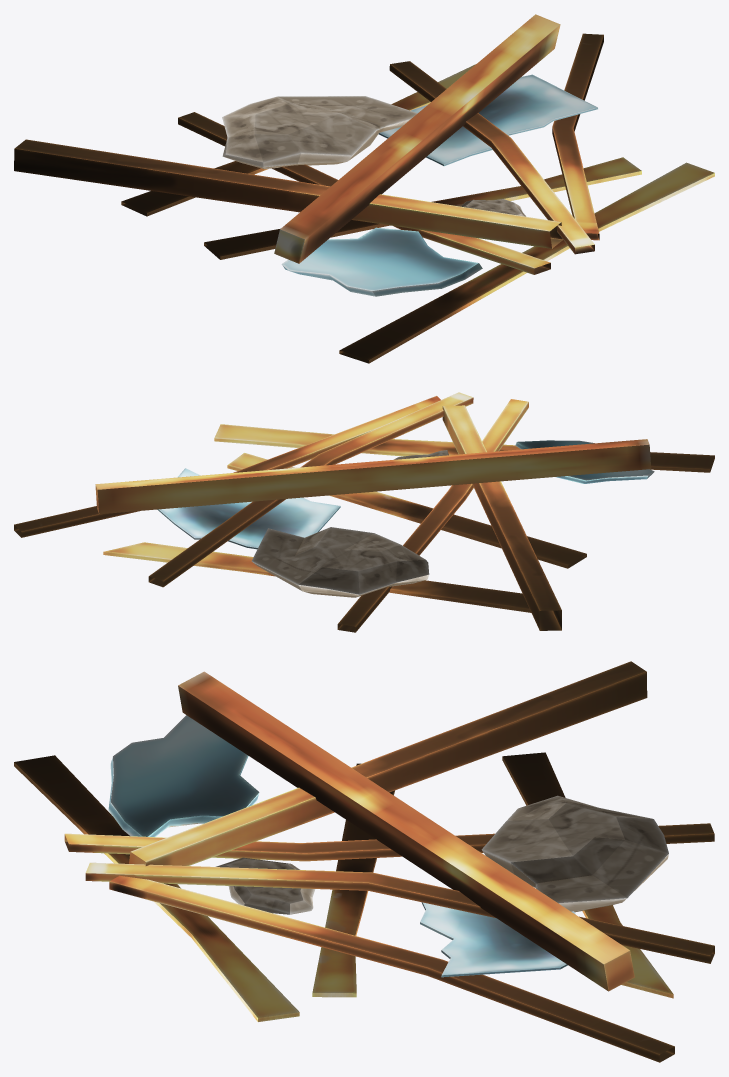
Rendered from Edificio_Ruinas_Suelo_01.FBX.
3 views of the same model, one above another, from view 1: azimuth 30°, elevation 25°; view 2: azimuth 150°, elevation 25°; view 3: azimuth 270°, elevation 25° (orthographic). The views are drawn at different scales.
Parts seen in each view (by area): view 1: Edificio_Ruinas; view 2: Edificio_Ruinas; view 3: Edificio_Ruinas.
Boxes of the visible parts, x1=… form: Edificio_Ruinas: x1=14, y1=14, x2=714, y2=363; Edificio_Ruinas: x1=14, y1=392, x2=714, y2=632; Edificio_Ruinas: x1=14, y1=661, x2=714, y2=1062.
Size of the model in its own units: 24.7 by 3.2 by 21.23.
